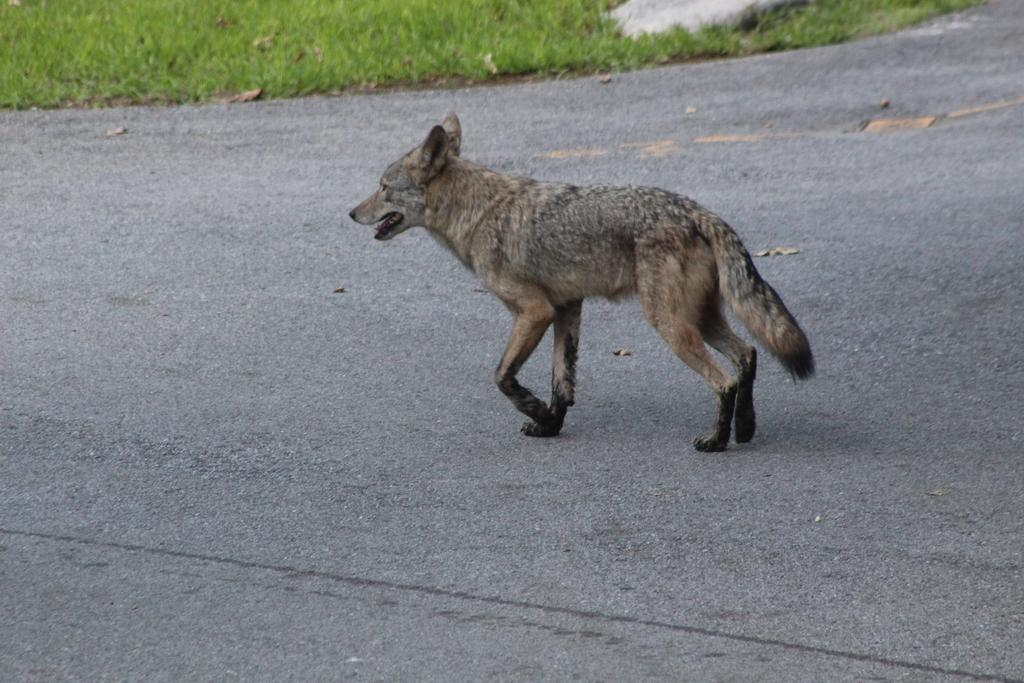Coyote: (346, 108, 823, 452)
